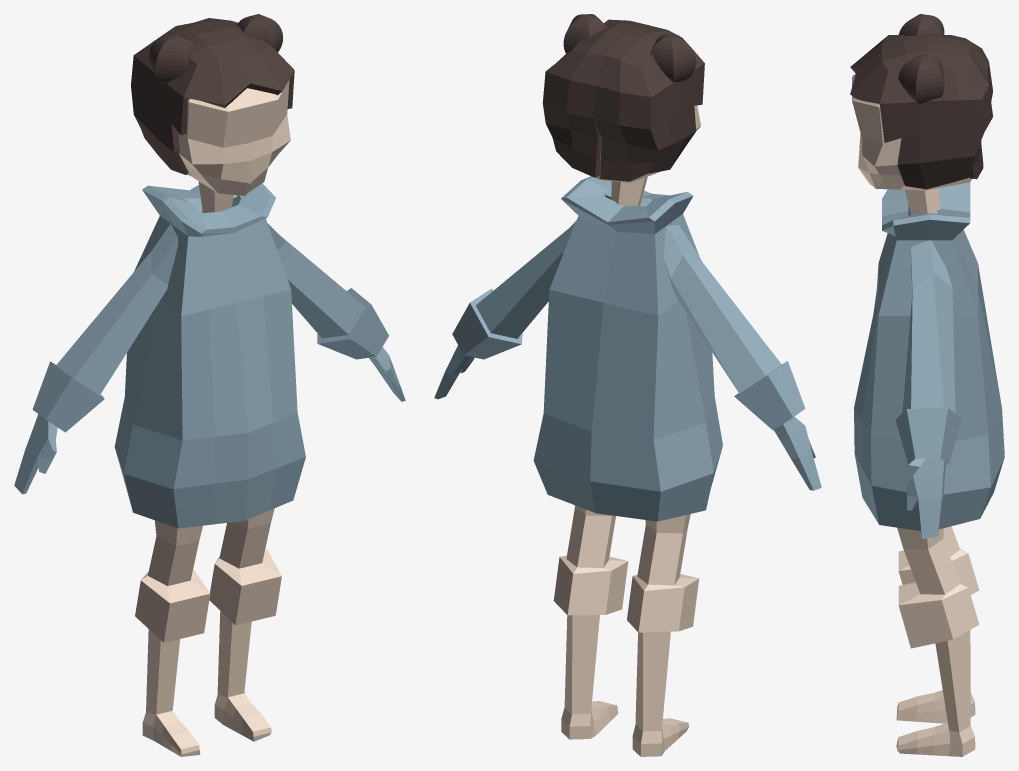
Rendered from girllowpoly.fbx.
3 renders of one model, left to right at view 1: azimuth 30°, elevation 25°; view 2: azimuth 150°, elevation 25°; view 3: azimuth 270°, elevation 25°, orthographic.
Parts seen in each view (by area): view 1: Cube, Cylinder, Cylinder.001, Cube.002, Cube.001, Sphere.001, Sphere, Cylinder.002; view 2: Cube, Cylinder, Cylinder.001, Cube.002, Sphere.001, Sphere, Cylinder.002; view 3: Cube, Cube.002, Cylinder, Cylinder.001, Cube.001, Sphere, Cylinder.002, Sphere.001.
Boxes of the visible parts, x1,y1,x2,y2 form: Cube: (114,183,305,528); Cylinder: (135,508,281,756); Cylinder.001: (14,224,405,494); Cube.002: (131,18,294,174); Cube.001: (178,79,290,196); Sphere.001: (149,34,194,84); Sphere: (237,14,283,52); Cylinder.002: (198,181,233,212); Cube: (533,176,722,521); Cylinder: (553,505,699,756); Cylinder.001: (434,221,821,490); Cube.002: (542,19,704,181); Sphere.001: (650,34,696,82); Sphere: (563,14,607,53); Cylinder.002: (611,177,647,205); Cube: (854,182,1004,530); Cube.002: (850,34,992,189); Cylinder: (896,526,979,756); Cylinder.001: (895,240,962,539); Cube.001: (852,73,971,190); Sphere: (898,54,944,103); Cylinder.002: (904,188,940,214); Sphere.001: (898,14,944,35).
Size of the model in its own units: 215 by 381 by 76.46.
